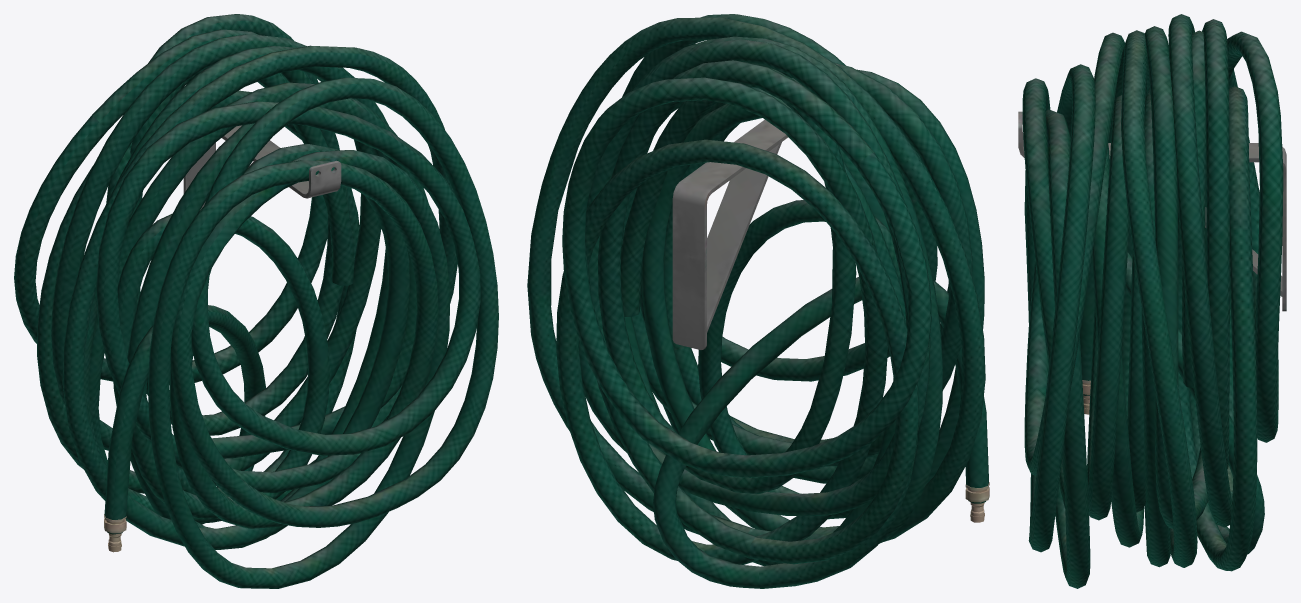
Rendered from garden_hose_wall_mounted_01.glb.
The picture shows the model from 3 angles, left to right: view 1: azimuth 30°, elevation 25°; view 2: azimuth 150°, elevation 25°; view 3: azimuth 270°, elevation 25°; orthographic projection. The views are drawn at different scales.
Parts seen in each view (by area): view 1: garden_hose, garden_hose_wall_bracket; view 2: garden_hose, garden_hose_wall_bracket; view 3: garden_hose, garden_hose_wall_bracket.
Part boxes in pixels (x1=…): garden_hose: x1=14, y1=14, x2=498, y2=588; garden_hose_wall_bracket: x1=183, y1=125, x2=341, y2=207; garden_hose: x1=527, y1=14, x2=989, y2=588; garden_hose_wall_bracket: x1=672, y1=119, x2=788, y2=349; garden_hose: x1=1022, y1=14, x2=1283, y2=588; garden_hose_wall_bracket: x1=1018, y1=111, x2=1286, y2=311.
Size of the model in its own units: 0.4667 by 0.557 by 0.2503.
1 material, 1 textured.
